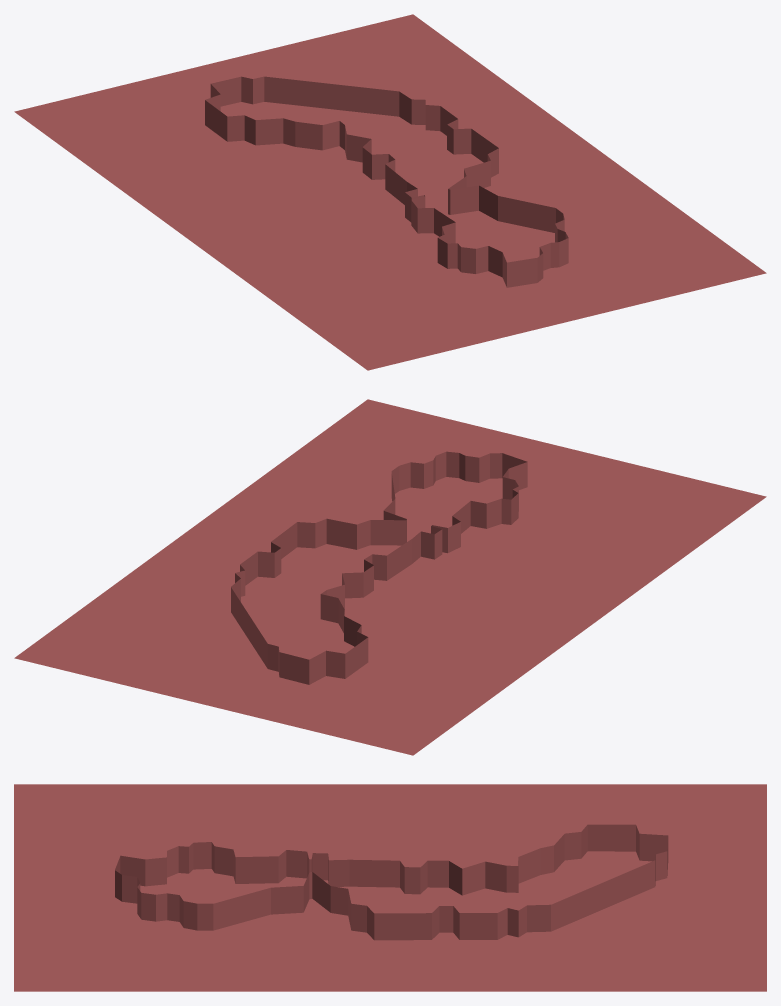
File: LY-1_colliders.fbx
The picture shows the model from 3 angles, top to bottom: view 1: azimuth 30°, elevation 25°; view 2: azimuth 150°, elevation 25°; view 3: azimuth 270°, elevation 25°; orthographic projection. The views are drawn at different scales.
Parts seen in each view (by area): view 1: ground, wall; view 2: ground, wall; view 3: ground, wall.
Boxes of the visible parts, x1,y1,x2,y2 form: ground: (14, 14, 766, 370); wall: (205, 76, 568, 287); ground: (14, 399, 766, 755); wall: (231, 451, 527, 684); ground: (14, 784, 766, 991); wall: (115, 824, 668, 940).
Bounding box in the file's own units: 69.02 × 4.43 × 106.
